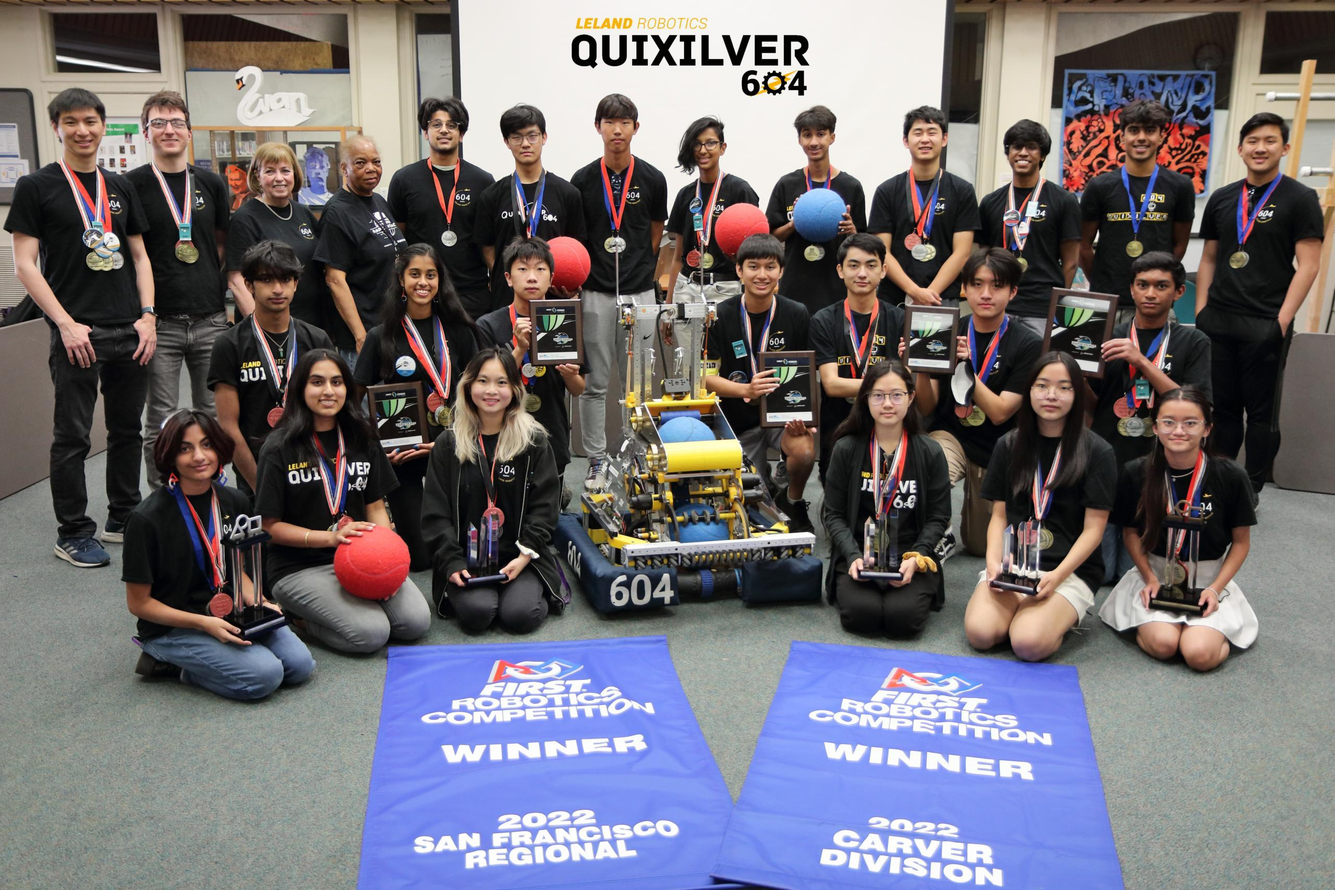robot: (549, 276, 829, 623)
